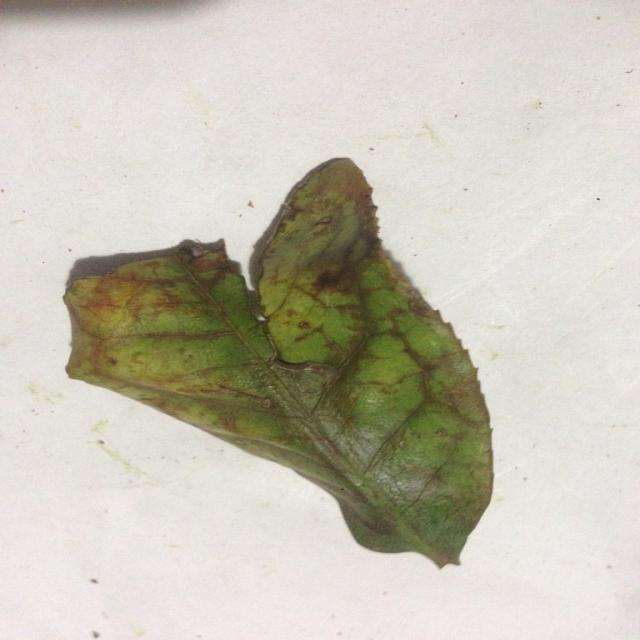Red Leaf Spot: (62, 160, 510, 575)
